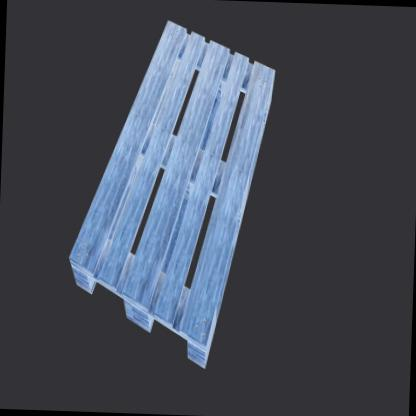BoxFace: (67, 15, 279, 377)
